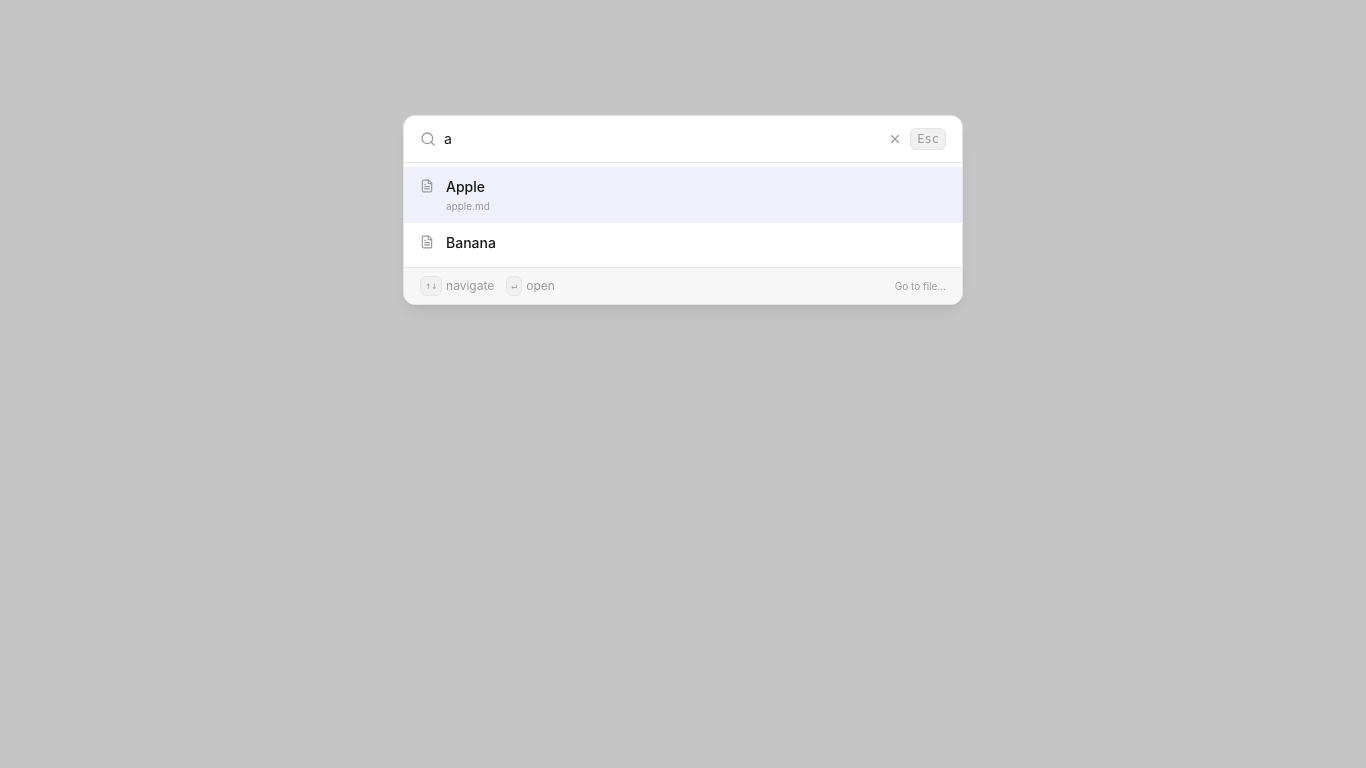
Test: CommandPalette — result row context menu › shows the full menu on right-click of a result row
Right-click the list item with test id "search-result" showing "Apple apple.md" at coordinates (683, 195), box [404,167,962,223]
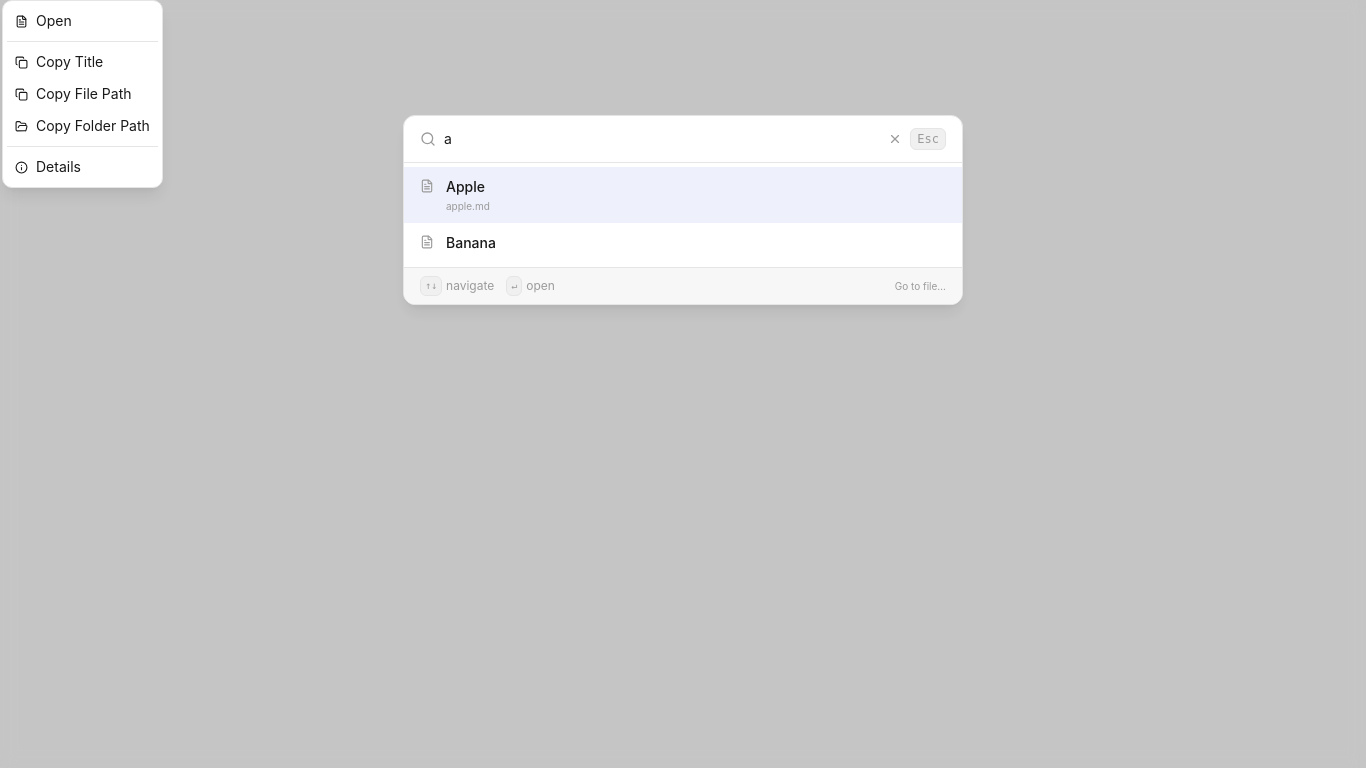
Expected: the menu item with test id "palette-open-document" is shown, [15,12,72,29]
Expected: the menu item with test id "palette-copy-title" is shown, [15,53,103,70]
Expected: the menu item with test id "palette-copy-result-path" is shown, [15,85,132,102]
